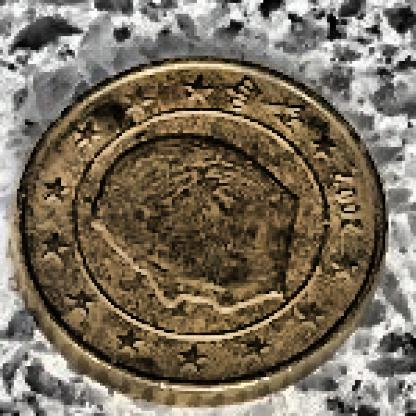coin: (19, 54, 389, 406)
